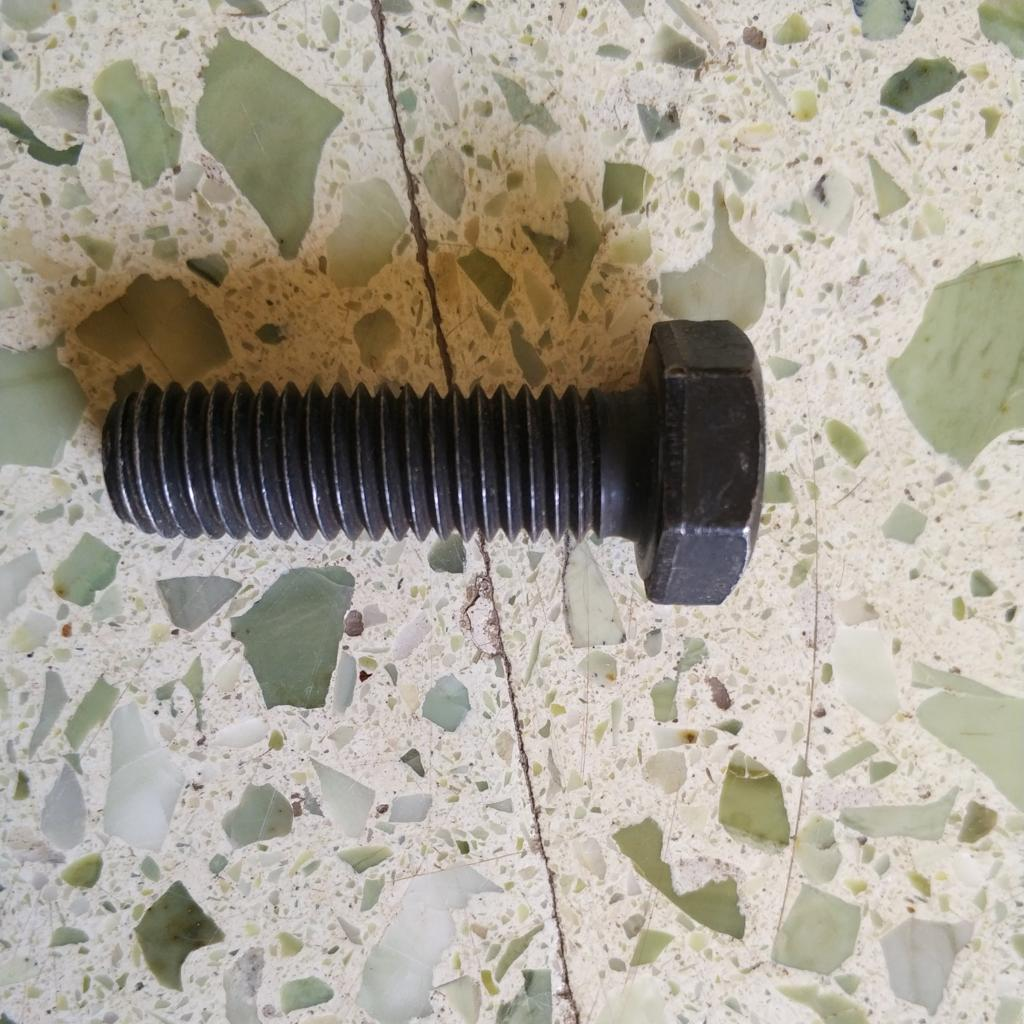screwtype2black: (98, 312, 769, 615)
